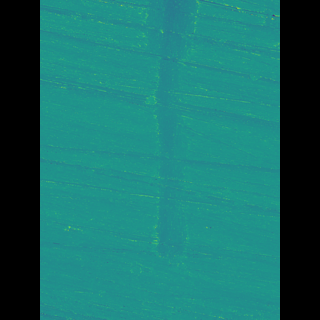Loch: (145, 0, 190, 265)
